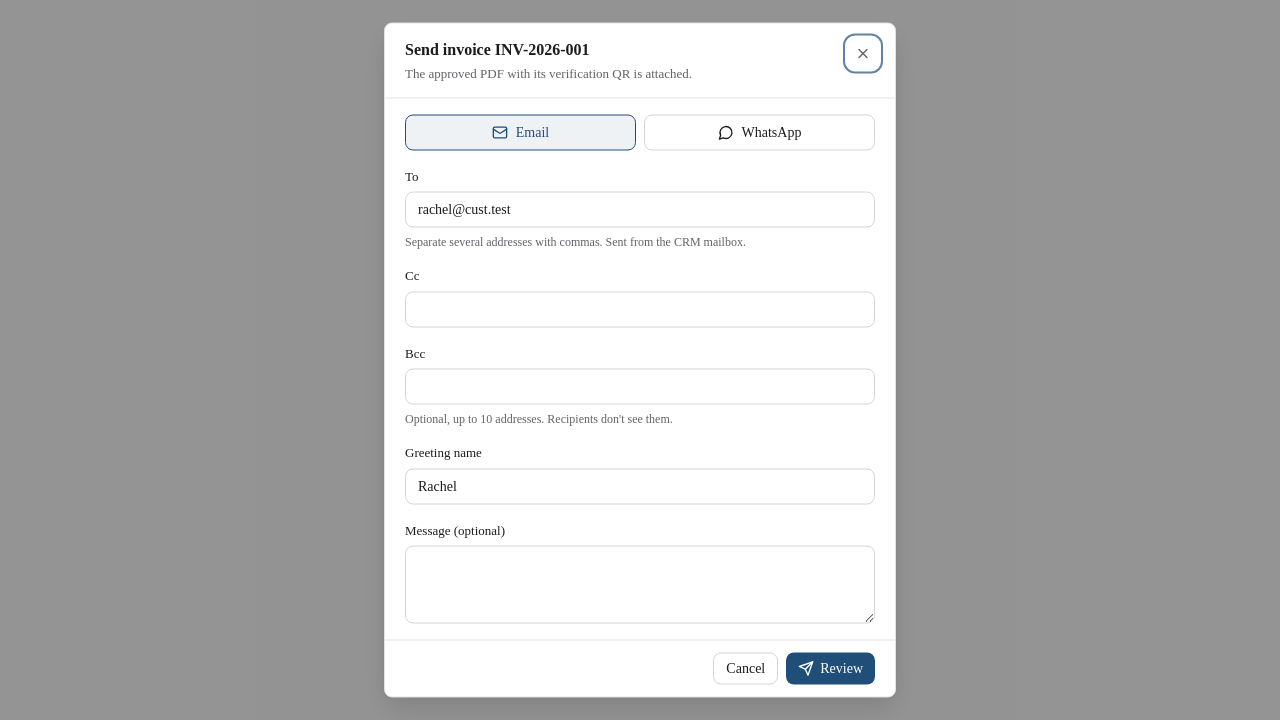
it: sending a document › asks before sending the same document to the same recipient again
The image size is (1280, 720).
Later steps or results of the test are not shown.
What coordinates should you click on to do the following:
click the button "Review"
I would click on:
 (831, 668)
Its box is [786, 652, 875, 684].
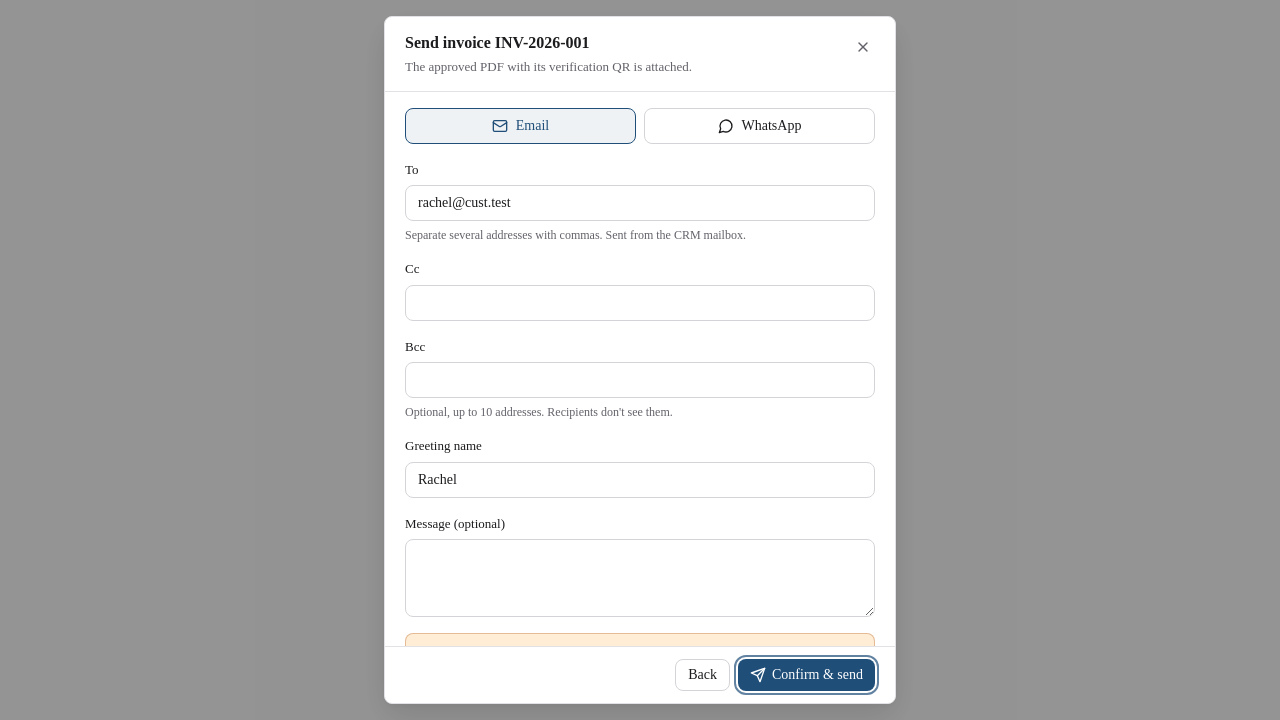
What coordinates should you click on to do the following:
click the button "Confirm & send"
I would click on:
 (806, 675)
Its box is [738, 659, 875, 691].
(page scrolled)
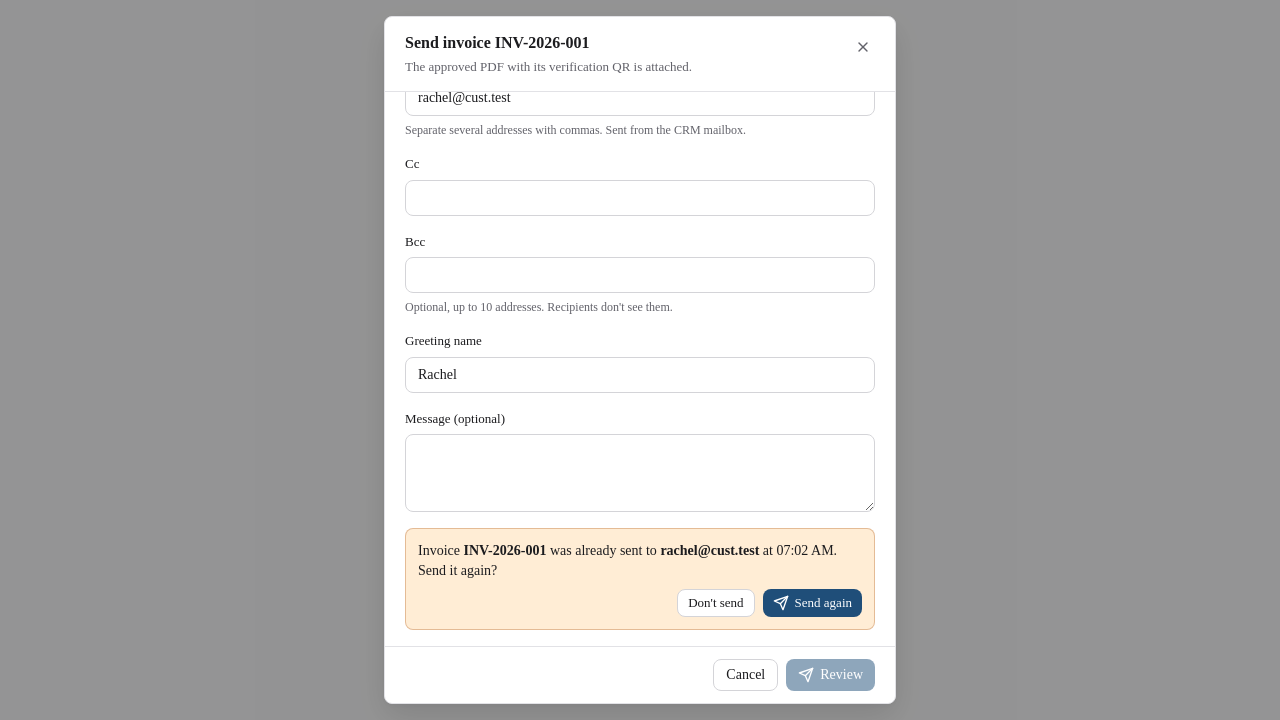
Check: the text "was already sent to" is shown, box [546, 543, 657, 558]
